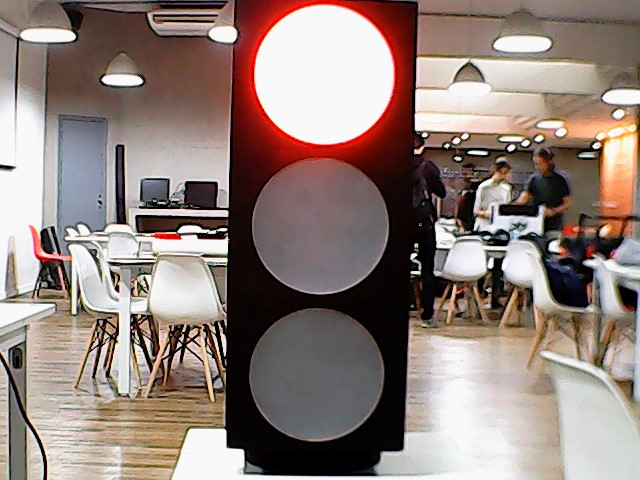vermelho: (225, 1, 411, 461)
